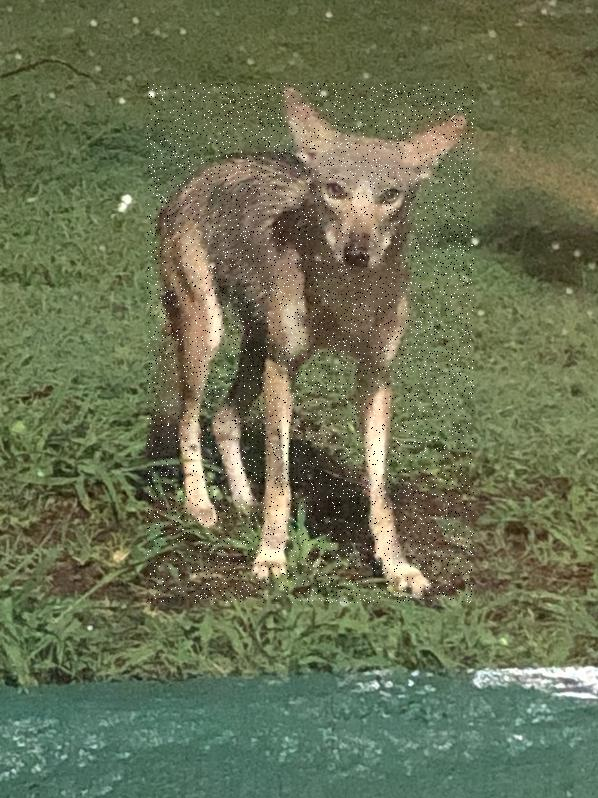Coyote: (147, 84, 474, 604)
